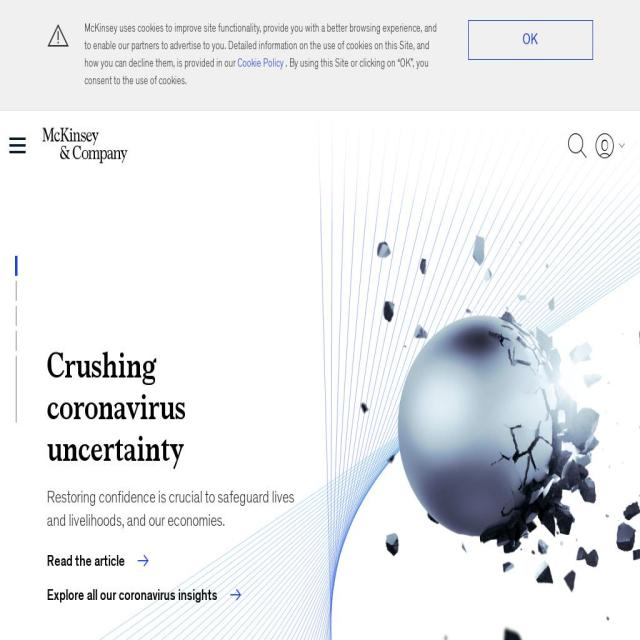button: (468, 20, 593, 60), (0, 111, 35, 179)
heading: (47, 344, 297, 469)
image: (0, 111, 640, 640), (320, 75, 640, 640), (10, 143, 26, 147)
link: (47, 585, 218, 606), (42, 128, 128, 164), (46, 550, 126, 572)
text: (85, 22, 438, 70), (47, 486, 297, 532), (84, 56, 430, 88), (286, 57, 398, 70), (238, 57, 286, 70), (398, 57, 413, 70)
